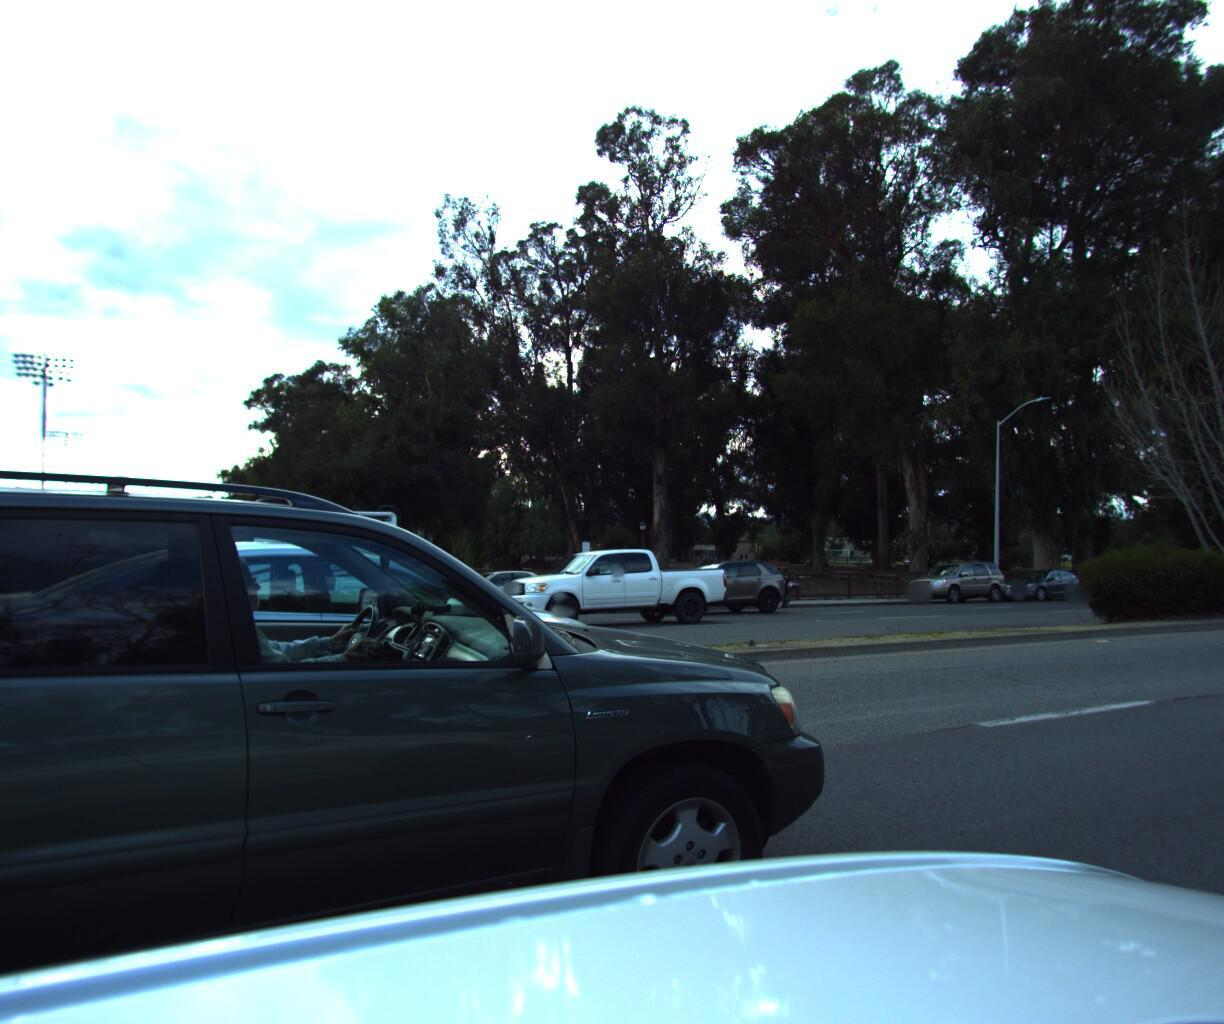car: (25, 533, 655, 804), (485, 543, 735, 633), (412, 566, 580, 620), (640, 554, 789, 614), (895, 555, 1009, 603), (985, 564, 1085, 601)
motorcycle: (763, 563, 807, 609)
other_vehicle: (52, 485, 405, 638)
